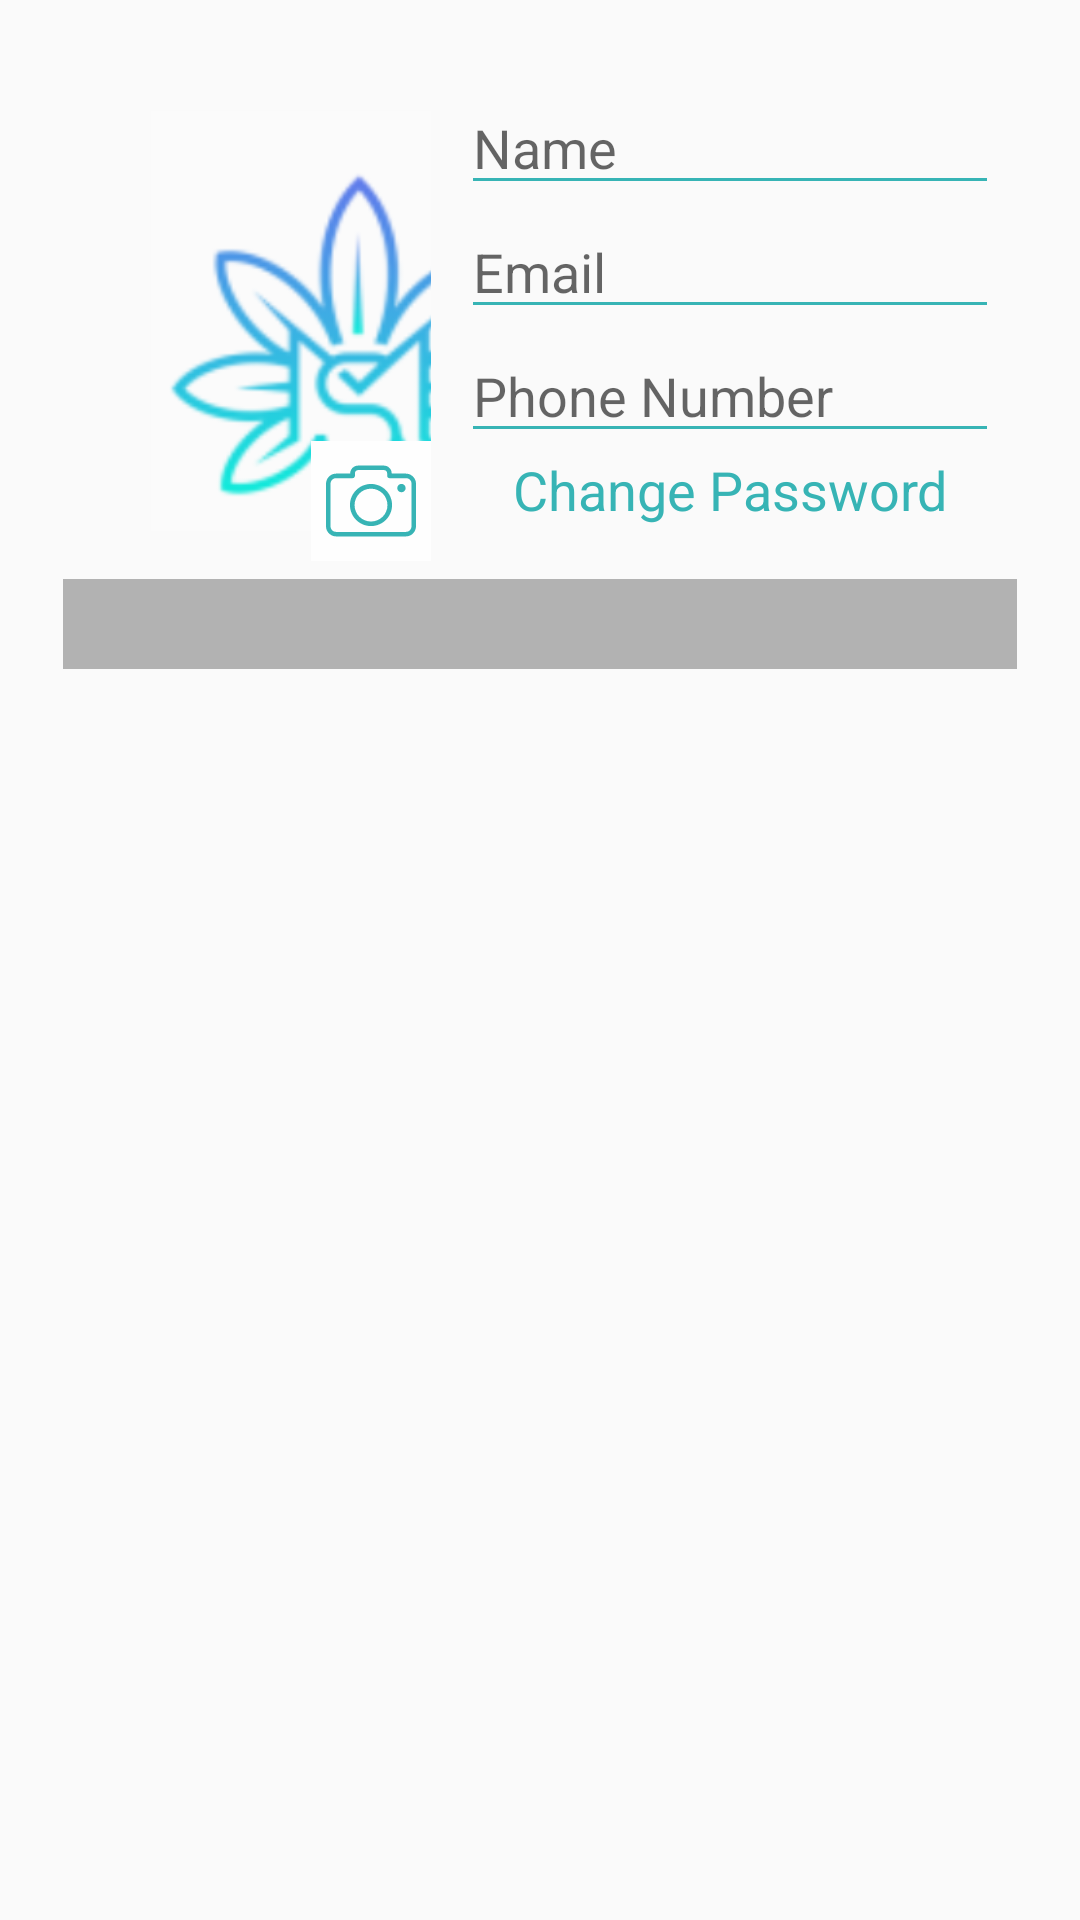

Where to tap for icons on this 1080px×1920px app screen, as [x,y]:
camera: [371,501]
